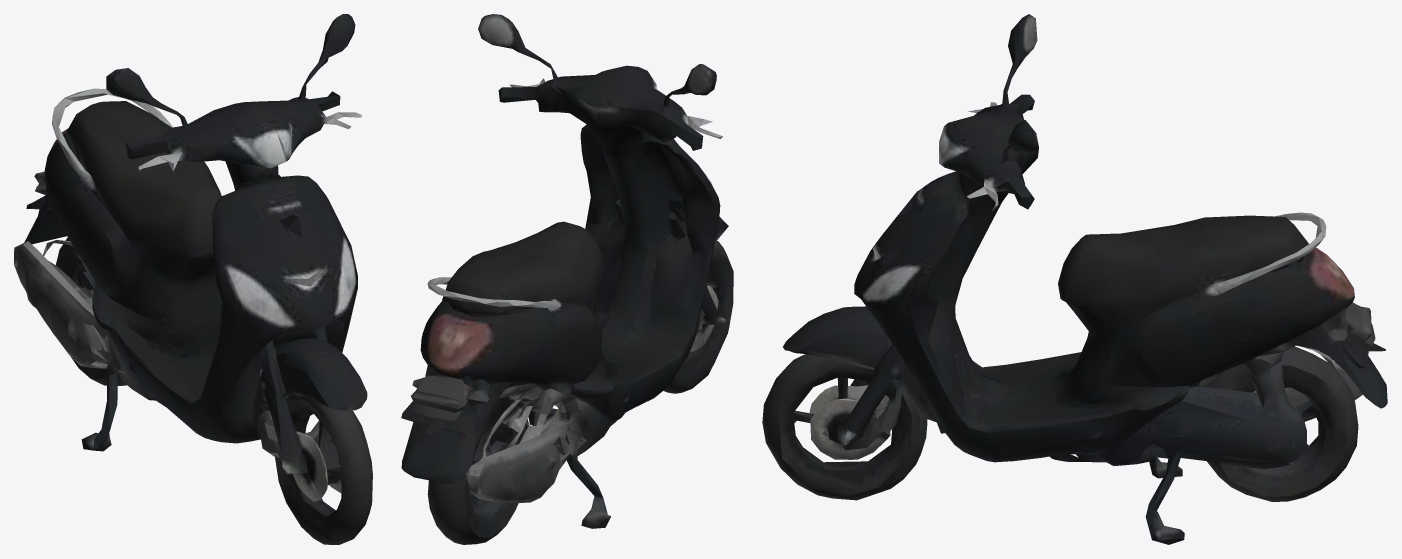
File: scooter.glb
3 views of the same model, side by side, from view 1: azimuth 30°, elevation 25°; view 2: azimuth 150°, elevation 25°; view 3: azimuth 270°, elevation 25° (orthographic). The views are drawn at different scales.
Parts seen in each view (by area): view 1: scooter; view 2: scooter; view 3: scooter.
Boxes of the visible parts, x1,y1,x2,y2 form: scooter: (14,14,372,544); scooter: (401,14,733,544); scooter: (762,14,1387,544).
Size of the model in its own units: 0.6409 by 1.1 by 1.42.
Materials: 1 (1 with a texture image).
